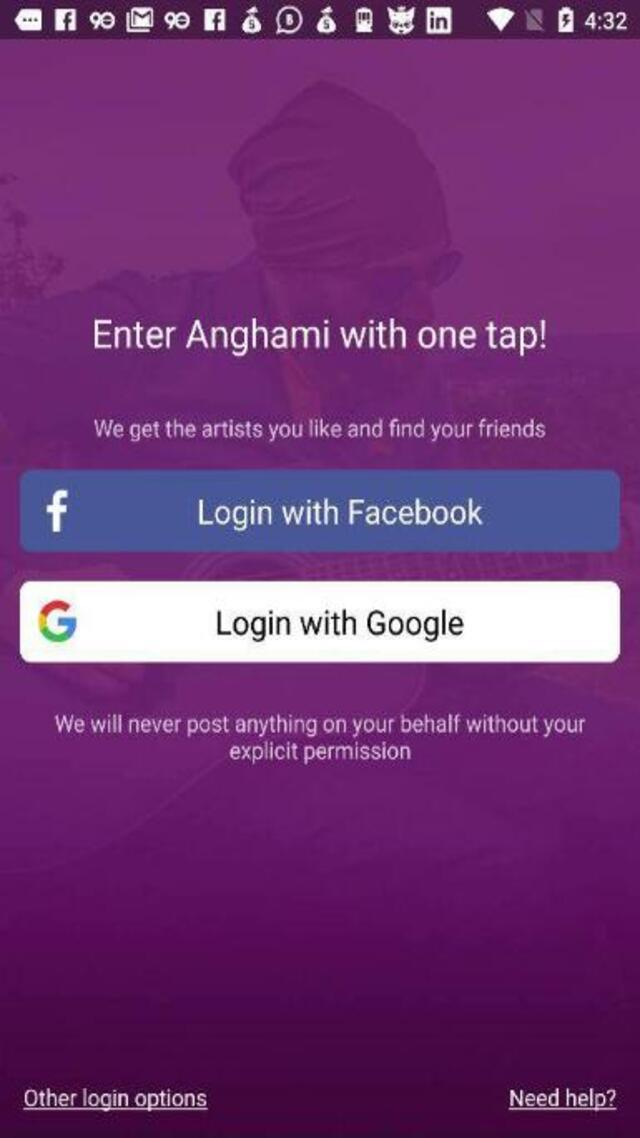Icon: (35, 596, 79, 647), (46, 488, 70, 534)
Text: (88, 316, 551, 357), (52, 712, 589, 739), (89, 415, 550, 443), (190, 494, 488, 532), (208, 607, 470, 644), (222, 740, 416, 766), (21, 1086, 208, 1112), (507, 1086, 617, 1112)
TextButton: (19, 580, 619, 662), (19, 468, 619, 550)
